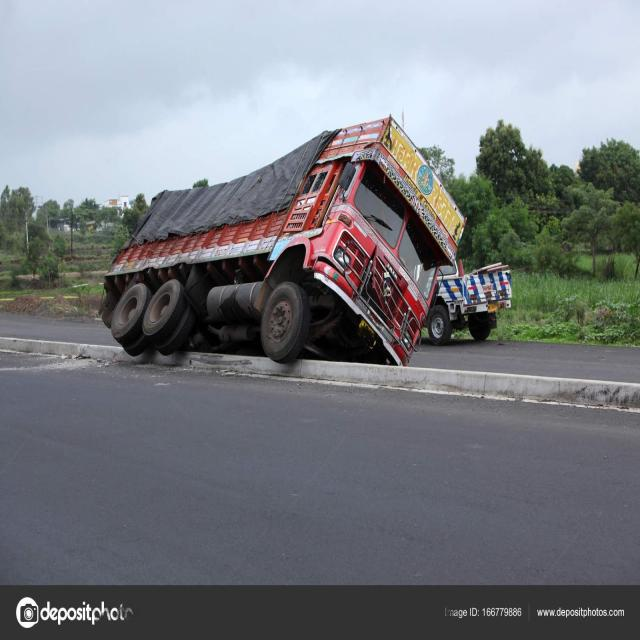accident: (100, 117, 464, 364)
